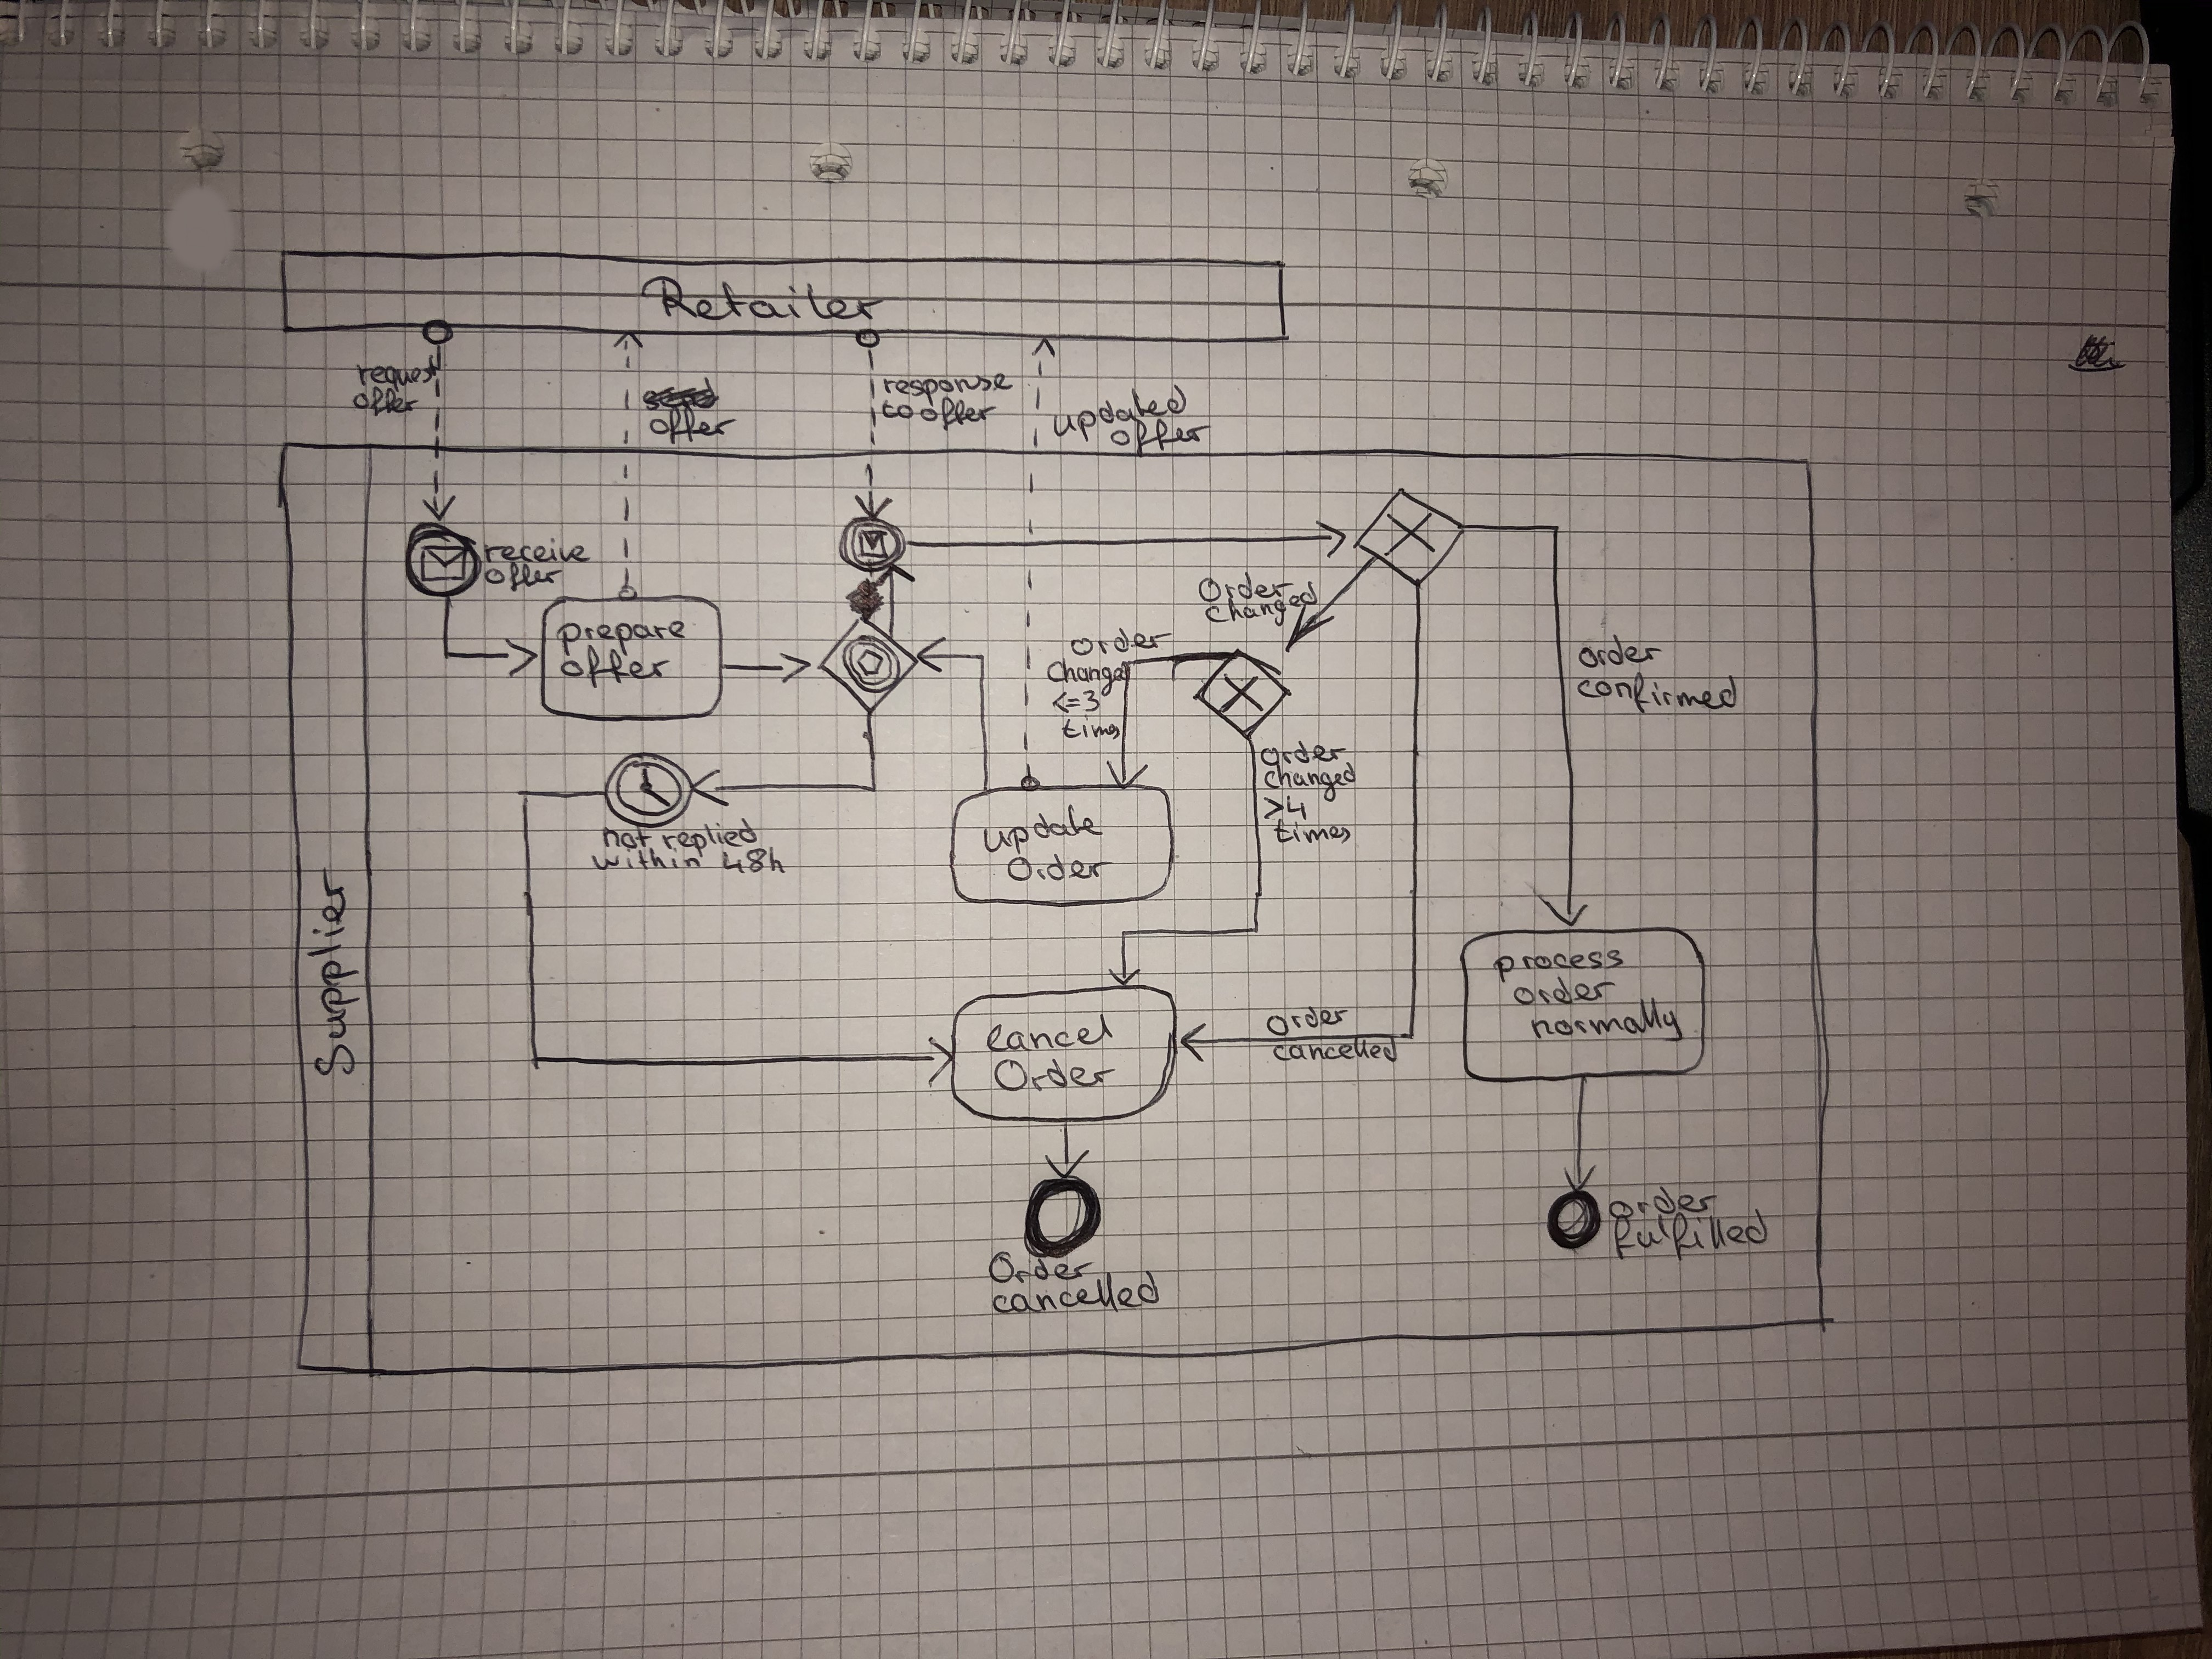48: (719, 845, 766, 877)
<=3: (1052, 688, 1101, 714)
>4: (1261, 786, 1308, 824)
Changed: (1047, 655, 1130, 687)
Offer: (651, 403, 732, 448)
Order: (995, 1056, 1118, 1093), (986, 1251, 1097, 1288), (1012, 854, 1108, 889), (1273, 1004, 1350, 1037), (1202, 572, 1291, 599)
Retailer: (643, 263, 888, 335)
Supplier: (305, 870, 362, 1072)
cancel: (988, 1012, 1116, 1058)
cancelled: (993, 1270, 1162, 1317), (1273, 1037, 1397, 1066)
changed: (1205, 577, 1320, 627), (1263, 762, 1359, 793)
confirmed: (1573, 673, 1737, 714)
fulfilled: (1609, 1209, 1768, 1258)
h: (765, 843, 784, 875)
normally: (1534, 997, 1686, 1046)
not: (604, 824, 651, 849)
offer: (561, 645, 672, 687), (1104, 418, 1207, 455), (481, 559, 564, 594), (920, 397, 998, 429), (357, 390, 416, 413)
order: (1515, 971, 1630, 1012), (1611, 1185, 1719, 1227), (1076, 624, 1167, 660), (1578, 634, 1662, 671), (1263, 735, 1341, 769)
prepare: (559, 612, 685, 652)
process: (1498, 945, 1627, 985)
receive: (484, 538, 592, 566)
replied: (657, 819, 768, 852)
request: (357, 359, 441, 382)
response: (880, 369, 1015, 399)
time: (1066, 718, 1120, 741)
times: (1275, 821, 1353, 845)
to: (878, 392, 914, 420)
update: (984, 805, 1099, 856)
updated: (1049, 389, 1190, 443)
within: (592, 843, 704, 878)
